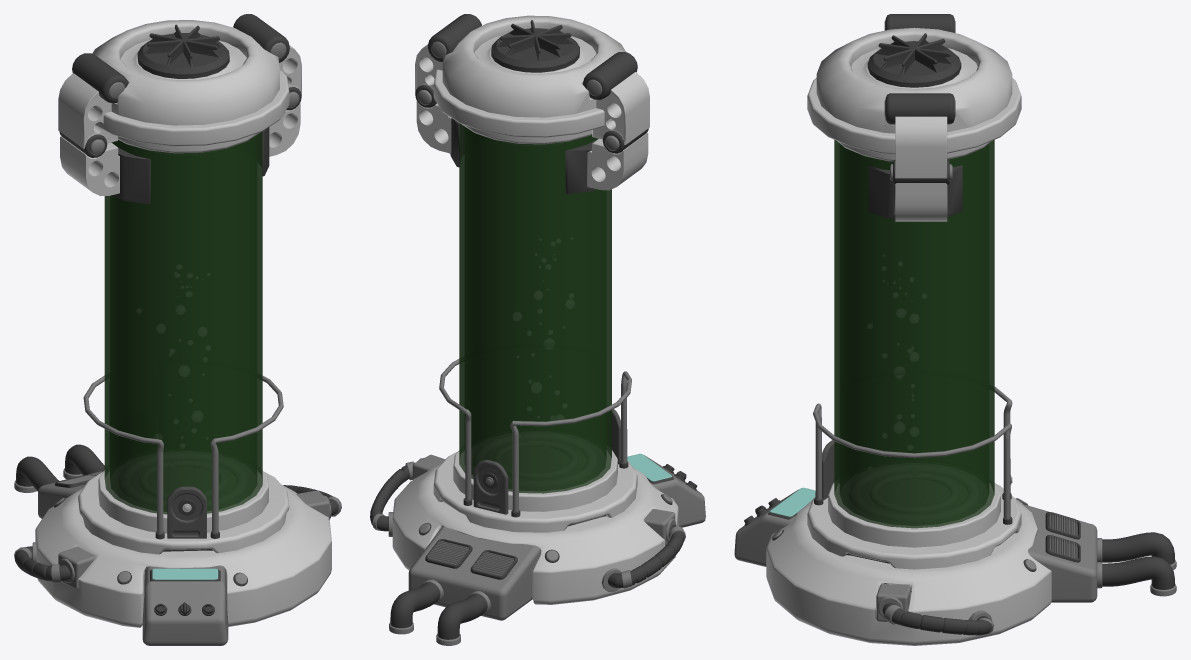
3 renders of one model, left to right at view 1: azimuth 30°, elevation 25°; view 2: azimuth 150°, elevation 25°; view 3: azimuth 270°, elevation 25°, orthographic. The views are drawn at different scales.
Visible parts, largest first — view 1: polySurface10, pCylinder15, pCylinder65, pCylinder14, pCube10, pCylinder5, pCylinder4, group8_pCube59, pCylinder56, pCylinder59 (×2), group8_pCube60, pCylinder26 (+10 smaller); view 2: polySurface10, pCylinder15, pCylinder65, pCube11, pCylinder14, pCylinder5, pCylinder4, pCylinder56, pCylinder26, group8_pCube59, pCylinder59 (×2), group8_pCube60 (+10 smaller); view 3: polySurface10, pCylinder15, pCylinder65, pCylinder14, pCylinder4, pCylinder5, pCube11, pCylinder26, group8_pCube58, pCylinder59 (×2), pCylinder56, group8_pCube57 (+6 smaller).
Part boxes in pixels (x1,y1,x2,y2): polySurface10: [104, 131, 262, 514]; pCylinder15: [35, 485, 331, 627]; pCylinder65: [92, 20, 279, 125]; pCylinder14: [78, 471, 289, 554]; pCube10: [142, 565, 228, 645]; pCylinder5: [91, 70, 289, 146]; pCylinder4: [98, 470, 268, 533]; group8_pCube59: [58, 73, 117, 148]; pCylinder56: [83, 375, 283, 533]; pCylinder59 (×2): [72, 14, 289, 102]; group8_pCube60: [60, 136, 119, 196]; pCylinder26: [16, 444, 104, 491]; polySurface10: [459, 123, 611, 493]; pCylinder15: [392, 464, 678, 604]; pCylinder65: [442, 15, 625, 117]; pCube11: [408, 526, 540, 620]; pCylinder14: [433, 451, 637, 532]; pCylinder5: [433, 69, 613, 137]; pCylinder4: [453, 450, 617, 511]; pCylinder56: [439, 359, 631, 511]; pCylinder26: [390, 582, 487, 639]; group8_pCube59: [592, 72, 649, 144]; pCylinder59 (×2): [427, 14, 637, 99]; group8_pCube60: [587, 132, 648, 190]; polySurface10: [834, 140, 994, 528]; pCylinder15: [766, 499, 1051, 645]; pCylinder65: [816, 27, 1012, 133]; pCylinder14: [807, 484, 1021, 569]; pCylinder4: [828, 482, 1000, 547]; pCylinder5: [807, 78, 1021, 154]; pCube11: [1022, 504, 1097, 602]; pCylinder26: [1102, 532, 1174, 589]; group8_pCube58: [895, 116, 947, 178]; pCylinder59 (×2): [885, 14, 954, 124]; pCylinder56: [813, 387, 1012, 518]; group8_pCube57: [895, 183, 947, 221].
Size of the model in its own units: 6.83 by 11.66 by 8.7.
